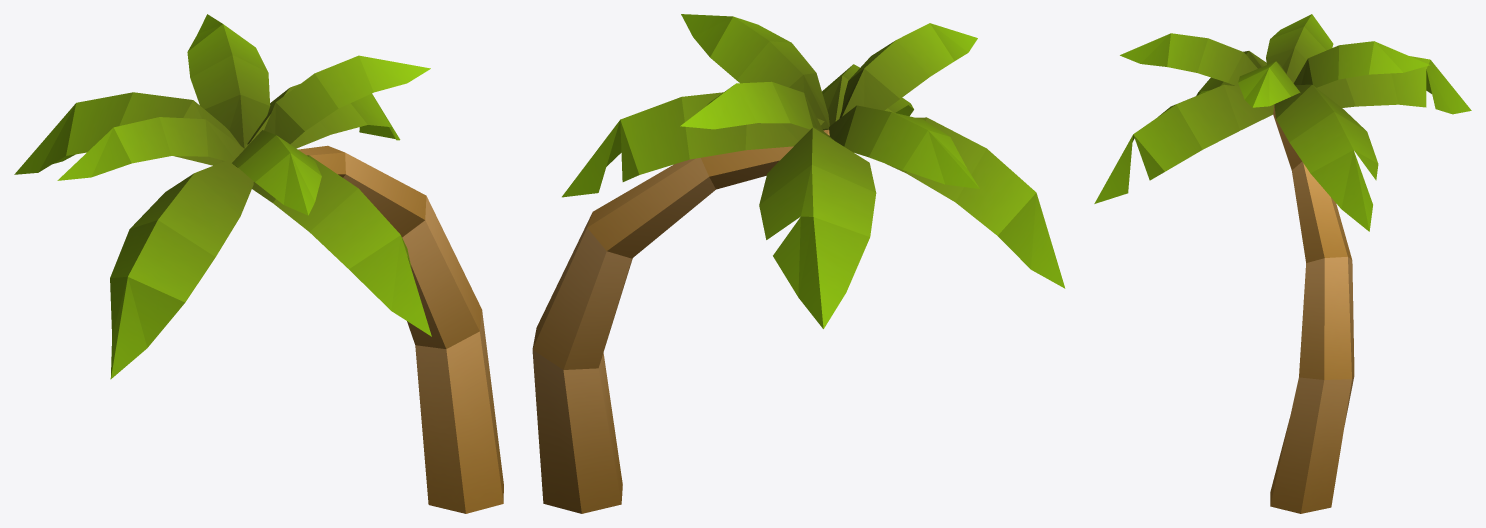
The model's file is Palm_Tree_B.fbx.
The picture shows the model from 3 angles, left to right: view 1: azimuth 30°, elevation 25°; view 2: azimuth 150°, elevation 25°; view 3: azimuth 270°, elevation 25°; orthographic projection. The views are drawn at different scales.
Parts seen in each view (by area): view 1: Palm_Tree_B; view 2: Palm_Tree_B; view 3: Palm_Tree_B.
Part boxes in pixels (box(x1,y1,x2,y2)): Palm_Tree_B: box(14, 14, 503, 513); Palm_Tree_B: box(532, 14, 1065, 513); Palm_Tree_B: box(1094, 14, 1471, 513).
Bounding box in the file's own units: 292 × 300 × 267.
